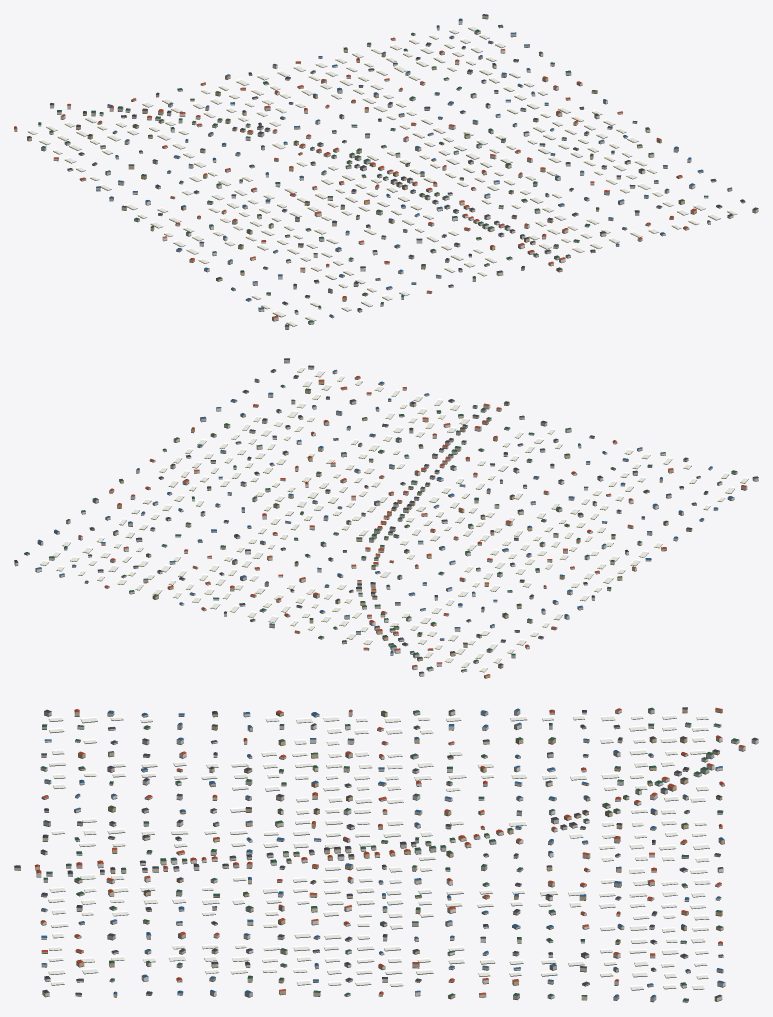
The model's file is buildings_T_E02_N02.glb.
3 views of the same model, one above another, from view 1: azimuth 30°, elevation 25°; view 2: azimuth 150°, elevation 25°; view 3: azimuth 270°, elevation 25° (orthographic). The views are drawn at different scales.
Parts seen in each view (by area): view 1: T_E02_N02_roofs_agri_greenhouse_arch, T_E02_N02_slope_seating_foundations, T_E02_N02_walls_wall_modern_warm_white, T_E02_N02_walls_wall_dalat_cream_stucco, T_E02_N02_walls_wall_pastel_sand_gray, T_E02_N02_walls_wall_french_ochre_villa, T_E02_N02_roofs_roof_slate_French_villa_hip, T_E02_N02_roofs_roof_pine_green_hip, T_E02_N02_roofs_roof_terracotta_gable, T_E02_N02_roofs_roof_highland_blue_gable; view 2: T_E02_N02_roofs_agri_greenhouse_arch, T_E02_N02_slope_seating_foundations, T_E02_N02_walls_wall_modern_warm_white, T_E02_N02_walls_wall_dalat_cream_stucco, T_E02_N02_walls_wall_pastel_sand_gray, T_E02_N02_walls_wall_french_ochre_villa, T_E02_N02_roofs_roof_slate_French_villa_hip, T_E02_N02_roofs_roof_pine_green_hip, T_E02_N02_roofs_roof_terracotta_gable, T_E02_N02_roofs_roof_highland_blue_gable; view 3: T_E02_N02_roofs_agri_greenhouse_arch, T_E02_N02_slope_seating_foundations, T_E02_N02_walls_wall_modern_warm_white, T_E02_N02_walls_wall_french_ochre_villa, T_E02_N02_walls_wall_dalat_cream_stucco, T_E02_N02_walls_wall_pastel_sand_gray, T_E02_N02_roofs_roof_slate_French_villa_hip, T_E02_N02_roofs_roof_pine_green_hip, T_E02_N02_roofs_roof_terracotta_gable, T_E02_N02_roofs_roof_highland_blue_gable.
Boxes of the visible parts, x1=… form: T_E02_N02_roofs_agri_greenhouse_arch: x1=27, y1=25, x2=737, y2=326; T_E02_N02_slope_seating_foundations: x1=14, y1=18, x2=758, y2=329; T_E02_N02_walls_wall_modern_warm_white: x1=38, y1=20, x2=733, y2=317; T_E02_N02_walls_wall_dalat_cream_stucco: x1=78, y1=15, x2=758, y2=311; T_E02_N02_walls_wall_pastel_sand_gray: x1=41, y1=26, x2=703, y2=329; T_E02_N02_walls_wall_french_ochre_villa: x1=14, y1=37, x2=744, y2=301; T_E02_N02_roofs_roof_slate_French_villa_hip: x1=27, y1=14, x2=758, y2=326; T_E02_N02_roofs_roof_pine_green_hip: x1=38, y1=24, x2=708, y2=322; T_E02_N02_roofs_roof_terracotta_gable: x1=14, y1=37, x2=696, y2=318; T_E02_N02_roofs_roof_highland_blue_gable: x1=96, y1=18, x2=731, y2=316; T_E02_N02_roofs_agri_greenhouse_arch: x1=40, y1=366, x2=748, y2=671; T_E02_N02_slope_seating_foundations: x1=14, y1=362, x2=758, y2=678; T_E02_N02_walls_wall_modern_warm_white: x1=35, y1=366, x2=722, y2=676; T_E02_N02_walls_wall_dalat_cream_stucco: x1=14, y1=360, x2=734, y2=642; T_E02_N02_walls_wall_pastel_sand_gray: x1=24, y1=400, x2=758, y2=663; T_E02_N02_walls_wall_french_ochre_villa: x1=64, y1=370, x2=704, y2=678; T_E02_N02_roofs_roof_slate_French_villa_hip: x1=14, y1=358, x2=758, y2=673; T_E02_N02_roofs_roof_pine_green_hip: x1=24, y1=384, x2=736, y2=670; T_E02_N02_roofs_roof_terracotta_gable: x1=78, y1=375, x2=746, y2=676; T_E02_N02_roofs_roof_highland_blue_gable: x1=36, y1=369, x2=734, y2=653; T_E02_N02_roofs_agri_greenhouse_arch: x1=48, y1=714, x2=710, y2=989; T_E02_N02_slope_seating_foundations: x1=14, y1=711, x2=758, y2=1002; T_E02_N02_walls_wall_modern_warm_white: x1=36, y1=710, x2=758, y2=998; T_E02_N02_walls_wall_french_ochre_villa: x1=14, y1=709, x2=724, y2=998; T_E02_N02_walls_wall_dalat_cream_stucco: x1=35, y1=711, x2=723, y2=1001; T_E02_N02_walls_wall_pastel_sand_gray: x1=40, y1=709, x2=723, y2=1002; T_E02_N02_roofs_roof_slate_French_villa_hip: x1=14, y1=707, x2=758, y2=997; T_E02_N02_roofs_roof_pine_green_hip: x1=41, y1=707, x2=739, y2=1000; T_E02_N02_roofs_roof_terracotta_gable: x1=34, y1=707, x2=745, y2=994; T_E02_N02_roofs_roof_highland_blue_gable: x1=41, y1=708, x2=724, y2=998.
Size of the model in its own units: 1793 by 31.87 by 1946.
